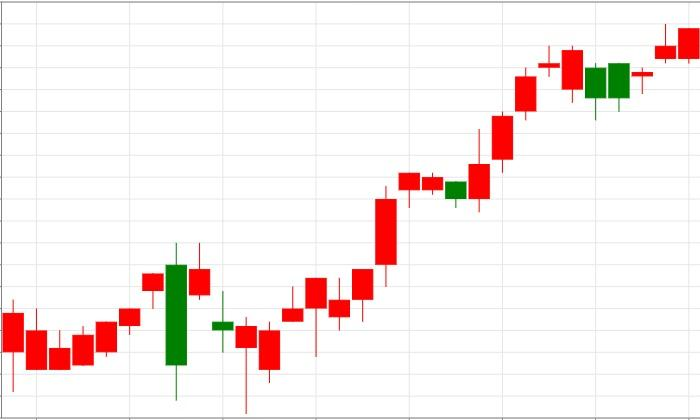bearish_engulfing_fall: (49, 242, 186, 401)
